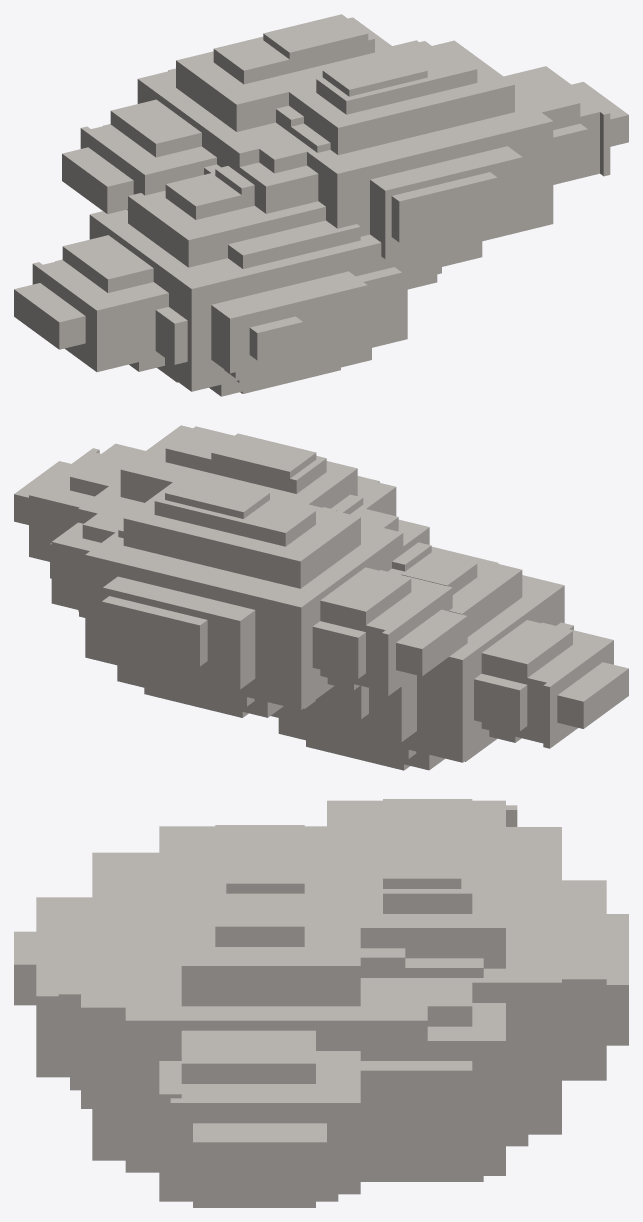
File: Hospital-2.obj
3 renders of one model, top to bottom at view 1: azimuth 30°, elevation 25°; view 2: azimuth 150°, elevation 25°; view 3: azimuth 270°, elevation 25°, orthographic. The views are drawn at different scales.
Size of the model in its own units: 8.7 by 3.9 by 5.5.
1 material, 1 textured.
